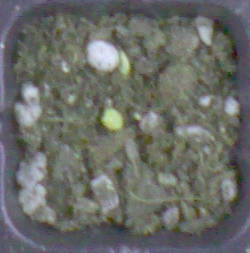pepper seed: (38, 39, 164, 171), (50, 9, 182, 85)
